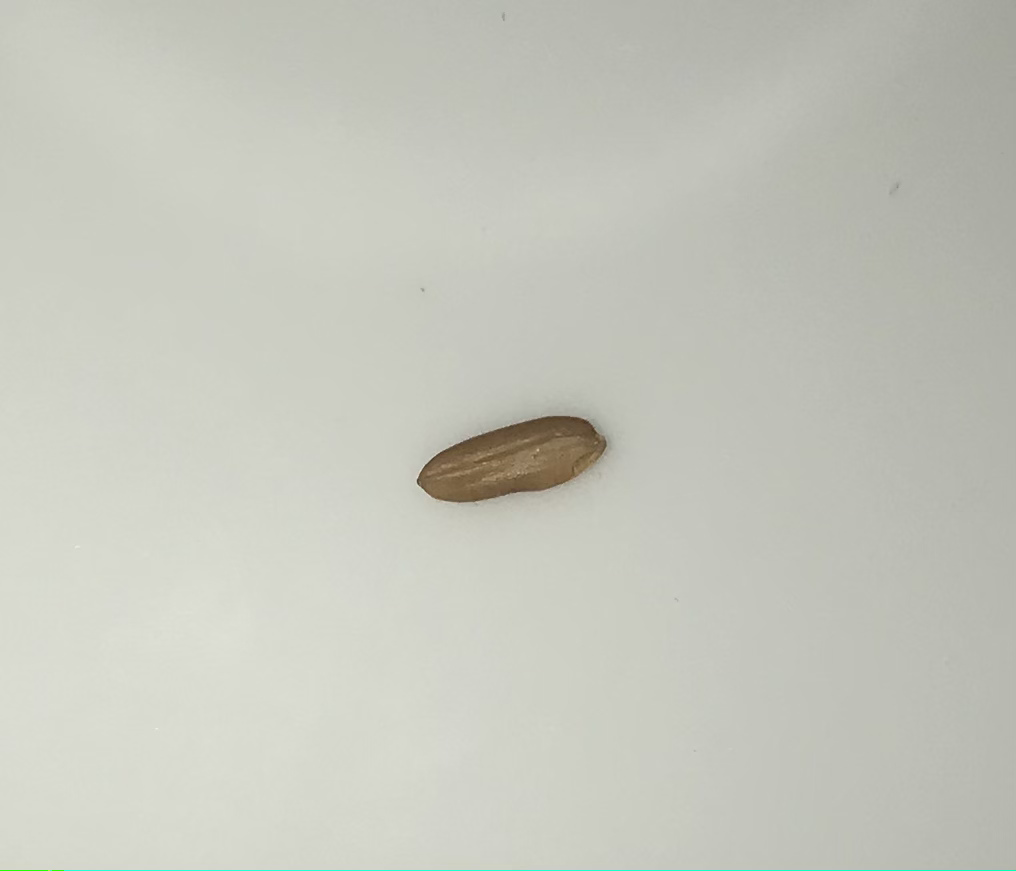Gao Lut Dien Bien: (398, 404, 615, 517)
